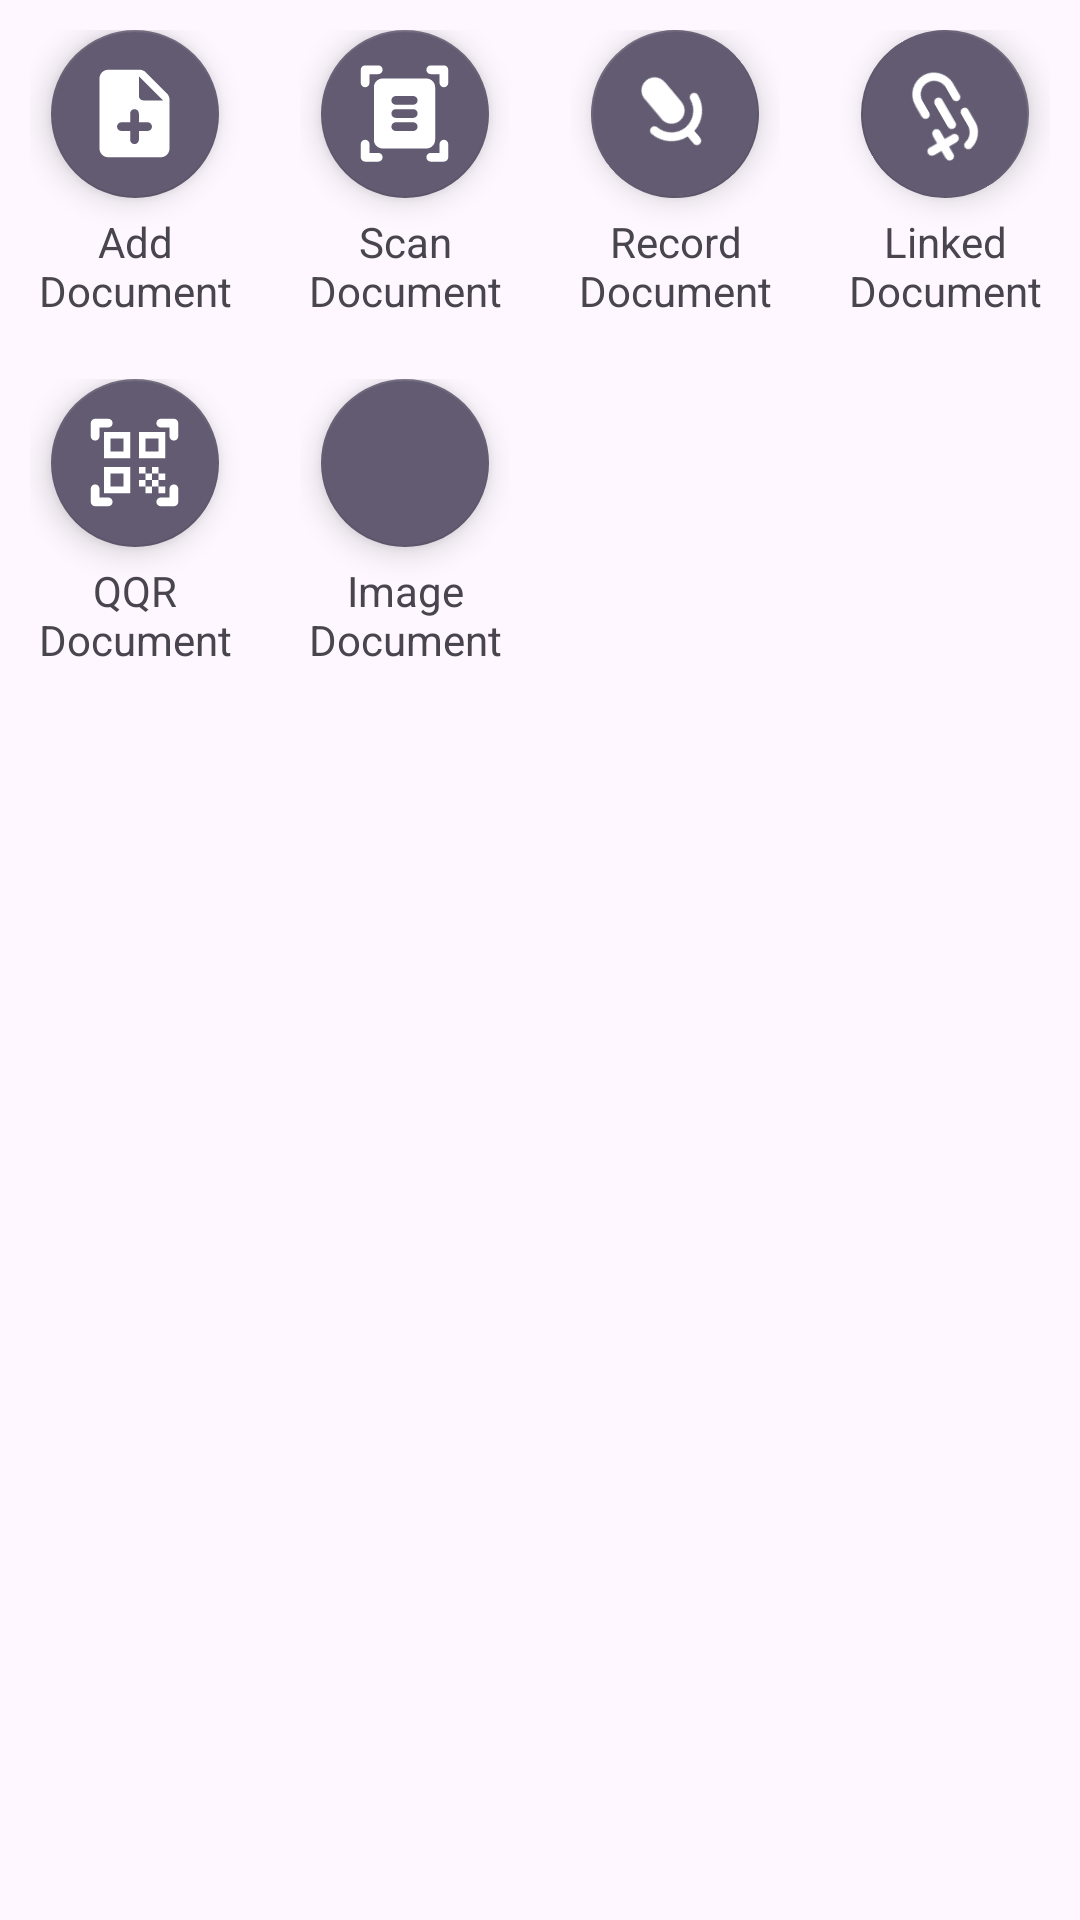

Where icons sit on this 1080px×1920px app screen, as (x1, y1, x2, y2):
qr code scanner: (51, 379, 219, 547)
